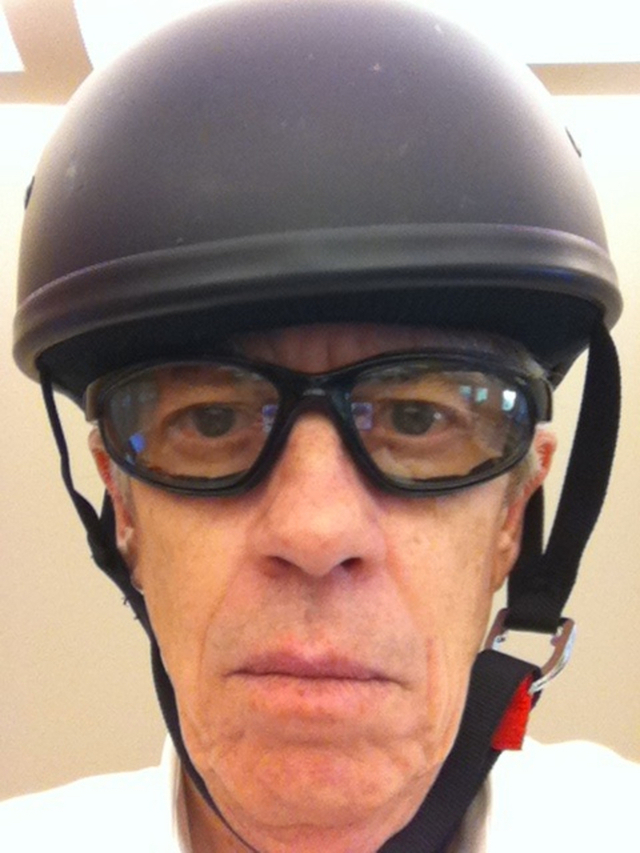helmet: (26, 4, 621, 325)
